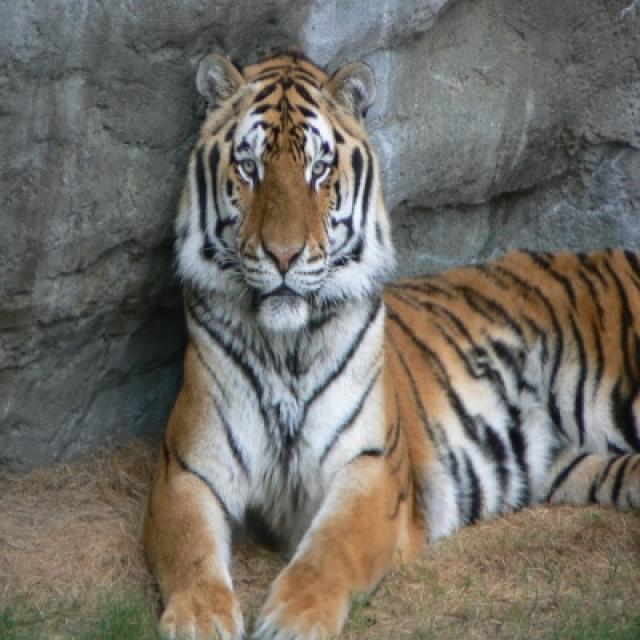Tiger: (142, 48, 638, 638)
